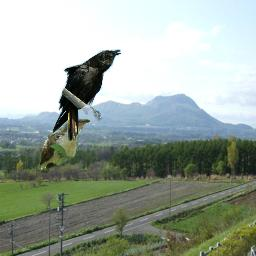Crow: (52, 49, 121, 142)
Cuckoo: (38, 118, 90, 171)
